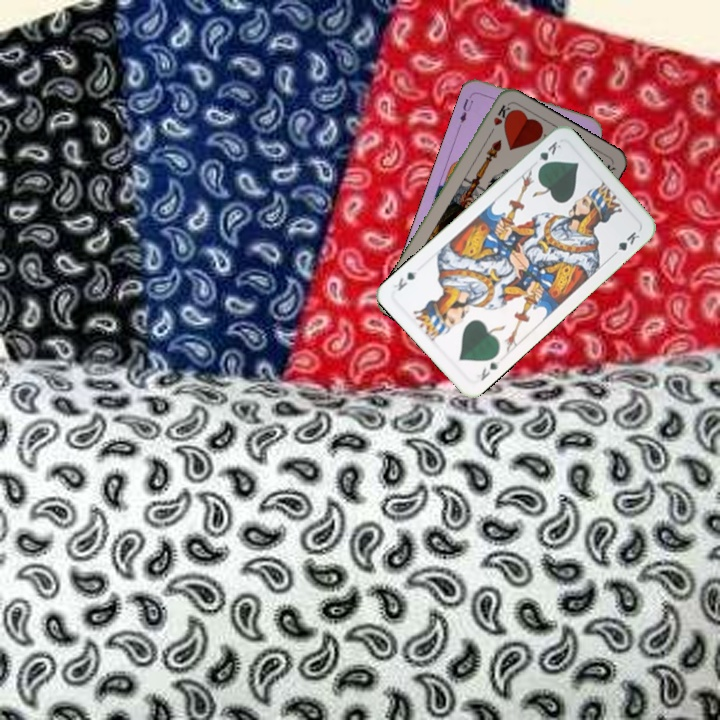EU: (455, 90, 476, 129)
GK: (534, 137, 564, 172), (472, 356, 503, 384)
HK: (485, 101, 513, 138)
